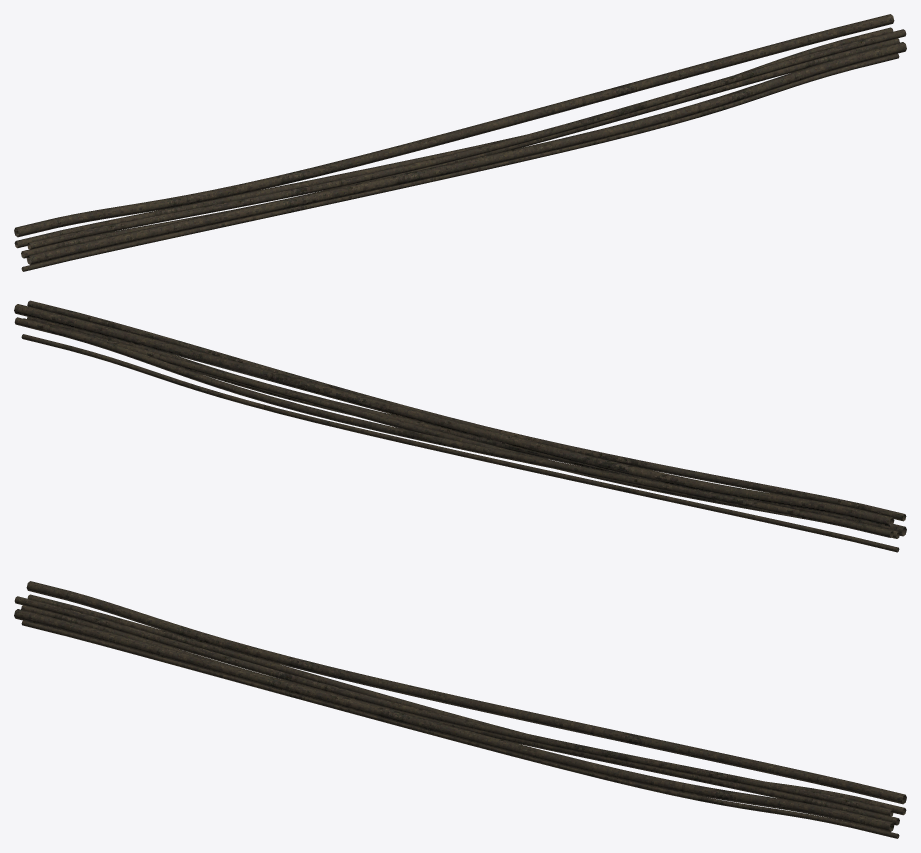
File: wires_hr_5.glb
3 views of the same model, one above another, from view 1: azimuth 30°, elevation 25°; view 2: azimuth 150°, elevation 25°; view 3: azimuth 330°, elevation 25° (orthographic).
Visible parts, largest first — view 1: wires_hr_5; view 2: wires_hr_5; view 3: wires_hr_5.
Boxes of the visible parts, x1,y1,x2,y2 form: wires_hr_5: (14, 14, 906, 271); wires_hr_5: (14, 300, 906, 552); wires_hr_5: (14, 581, 906, 838).
Bounding box in the file's own units: 4 × 0.2216 × 0.14.
Materials: 1 (1 with a texture image).
